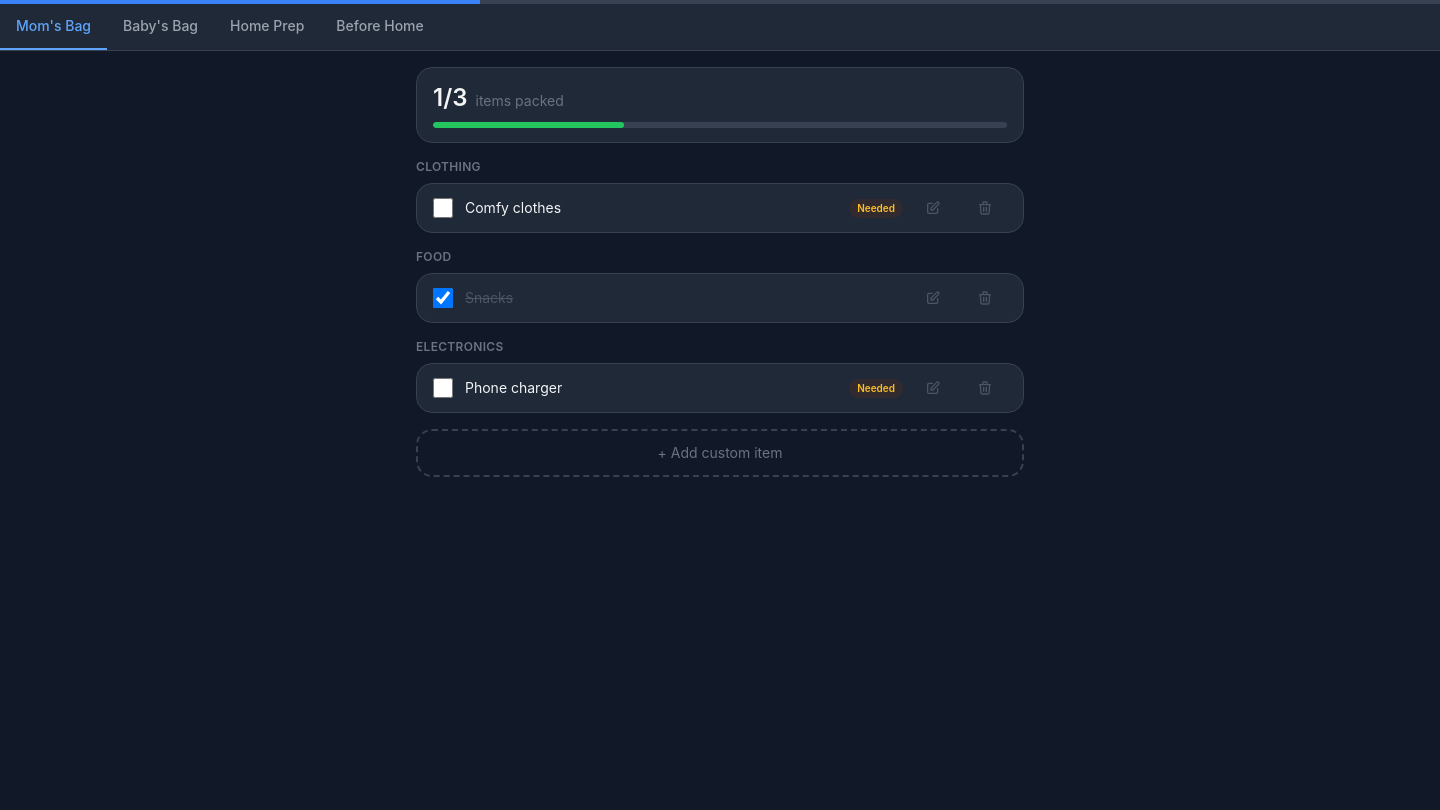
Scenario: ChecklistPage › add item button is disabled until label is entered
Expected: the text "Comfy clothes" is shown, [465,199,561,216]
Click the button "+ Add custom item" at (720, 453), box [416,429,1024,477]
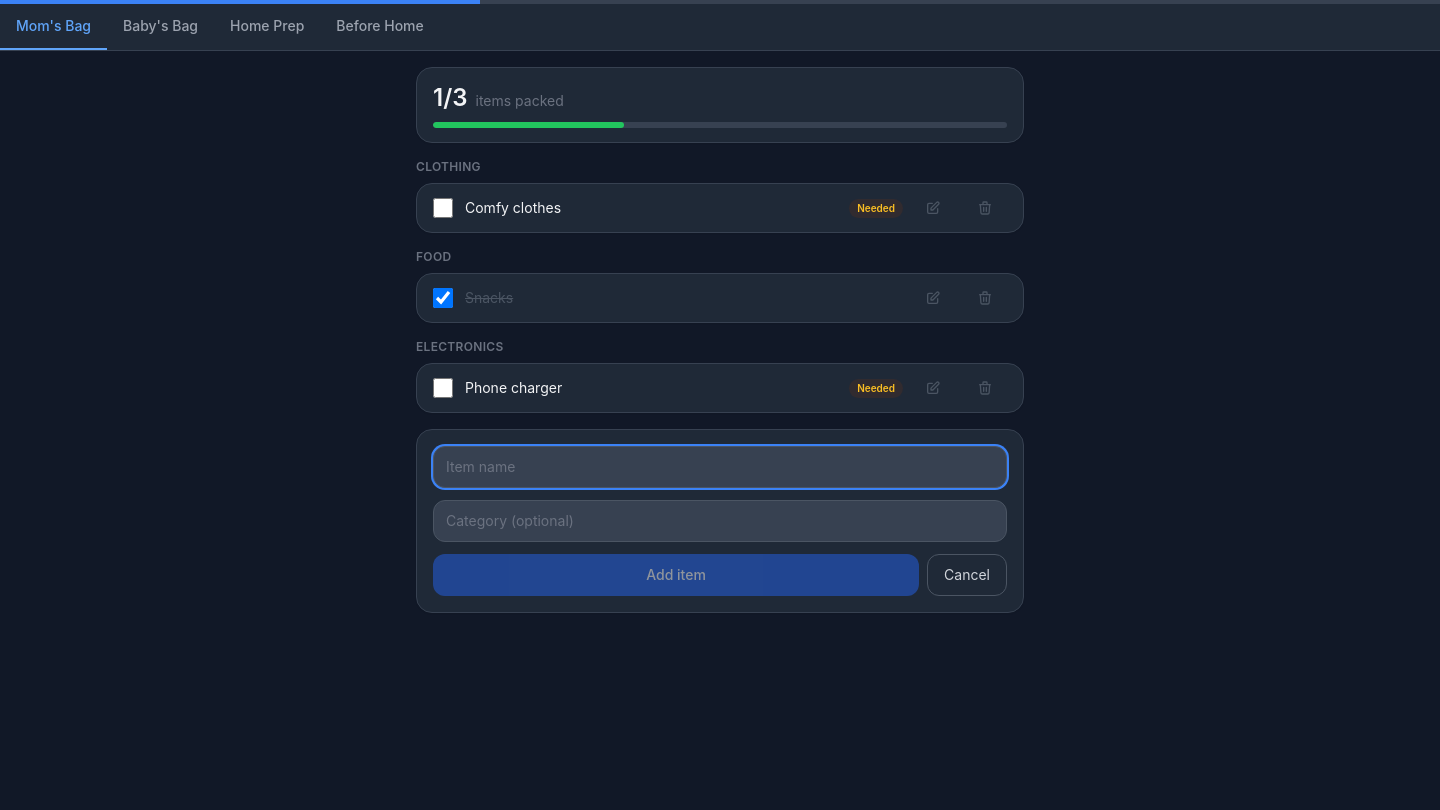
Expected: the button "Add item" is disabled, [433,554,919,596]
Type "My custom item" into the field with placeholder "Item name" at (720, 467), box [433,446,1007,488]
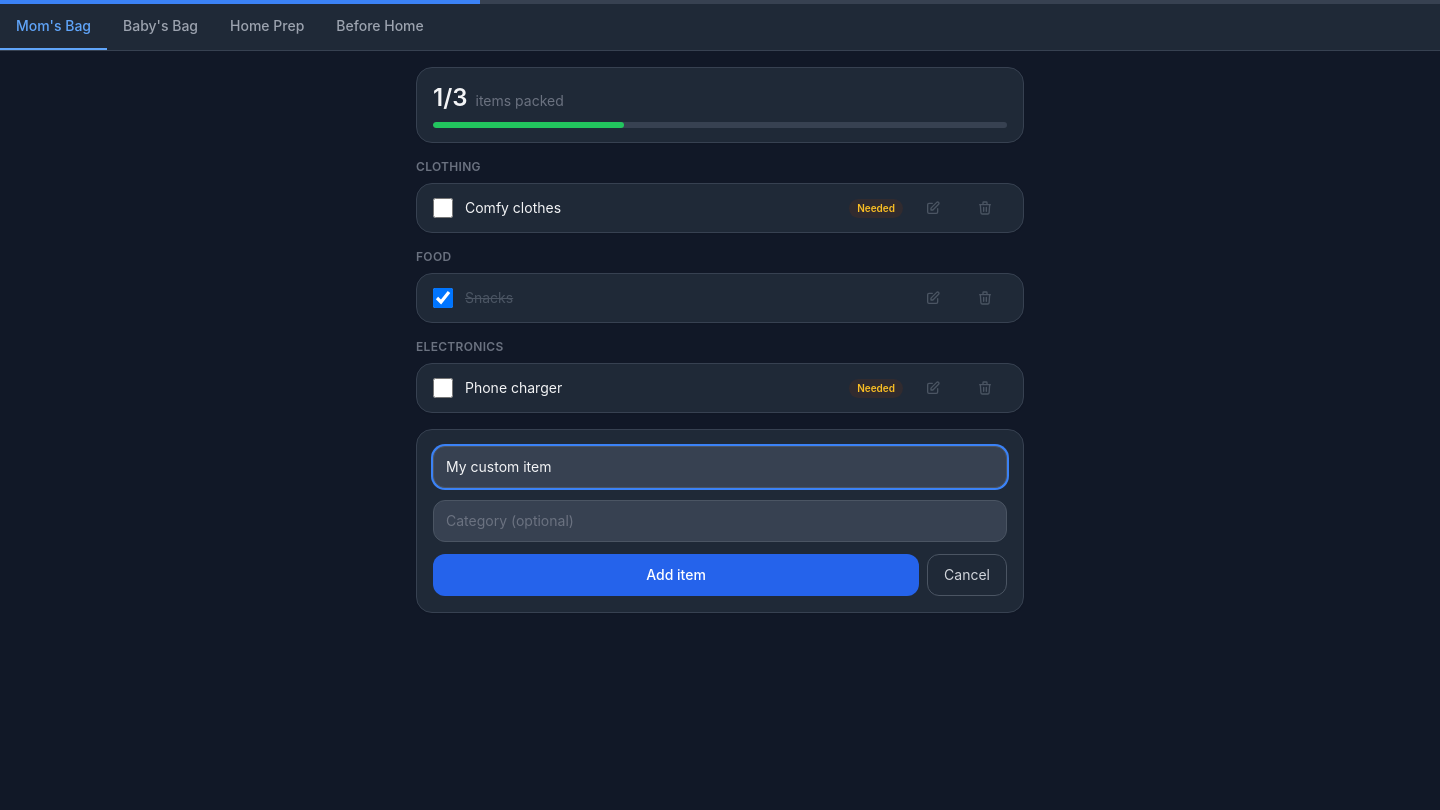
Expected: the button "Add item" is enabled, [433,554,919,596]
